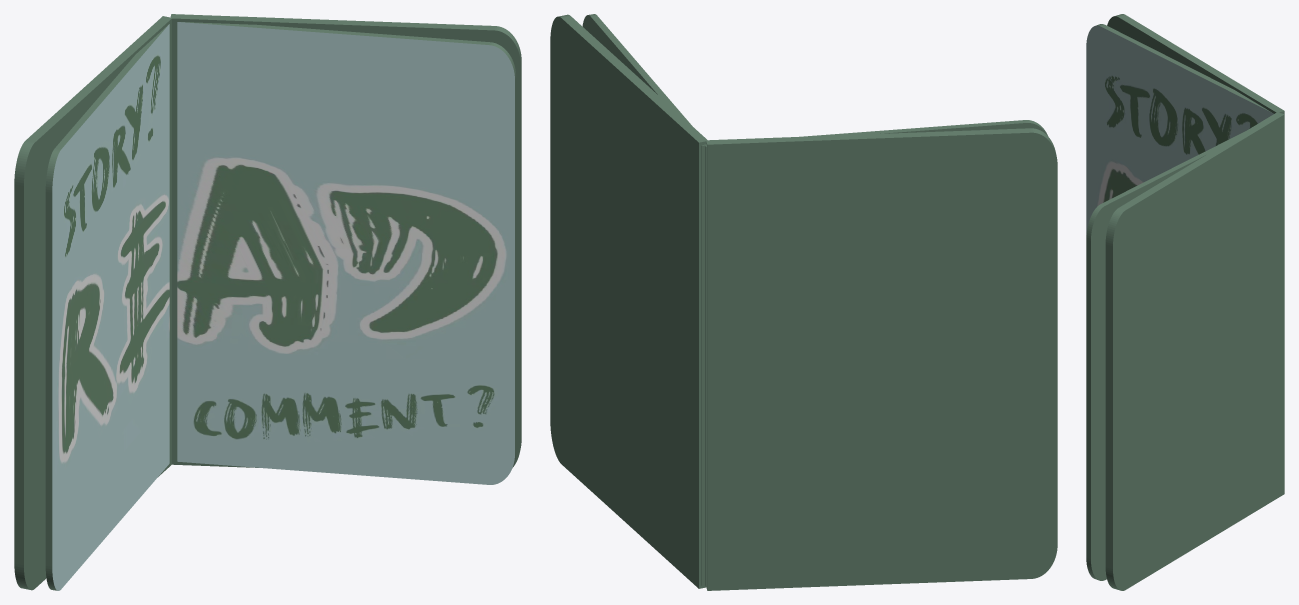
File: book.glb
The picture shows the model from 3 angles, left to right: view 1: azimuth 30°, elevation 25°; view 2: azimuth 150°, elevation 25°; view 3: azimuth 270°, elevation 25°; orthographic projection. The views are drawn at different scales.
Parts seen in each view (by area): view 1: book; view 2: book; view 3: book.
Part boxes in pixels (left/top/right/bottom): book: left=14, top=14, right=521, bottom=590; book: left=550, top=14, right=1057, bottom=590; book: left=1086, top=14, right=1284, bottom=590.
Bounding box in the file's own units: 1.67 × 1.4 × 0.6627.
7 materials, 6 textured.
